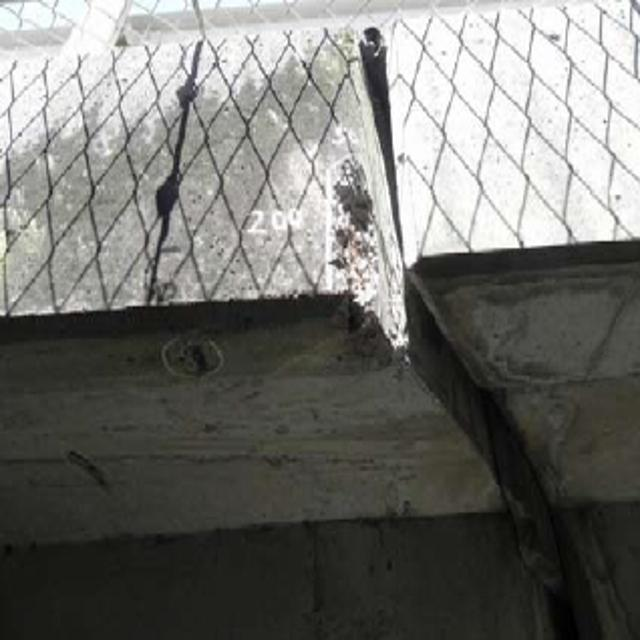spalling: (301, 143, 426, 360), (137, 323, 236, 390)
